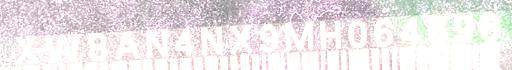letter: (41, 30, 81, 61), (280, 21, 318, 52), (226, 21, 258, 54), (110, 26, 140, 61), (140, 26, 170, 61), (314, 18, 344, 52), (11, 32, 41, 65), (196, 23, 224, 56), (82, 29, 110, 61), (256, 21, 280, 54), (172, 24, 196, 57), (423, 12, 447, 44), (344, 17, 368, 49), (398, 16, 422, 47), (372, 17, 396, 48), (450, 10, 472, 42), (477, 11, 499, 41)
